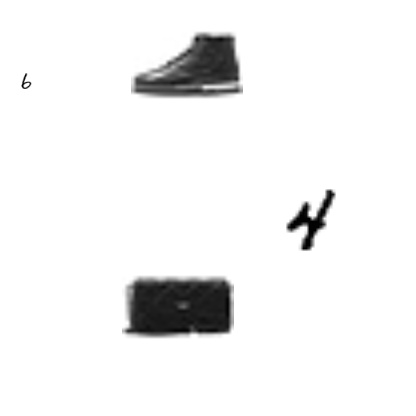4: (269, 178, 353, 262)
6: (14, 71, 36, 93)
Ankle_boot: (131, 9, 243, 121)
Bag: (122, 249, 234, 361)
